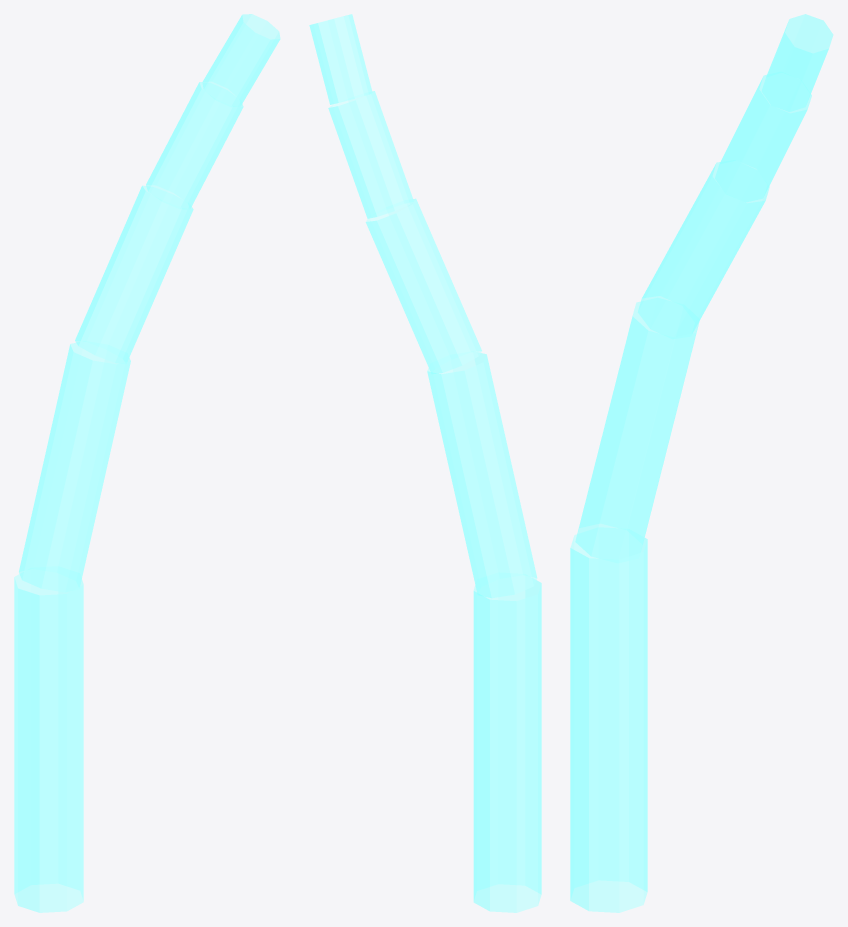
File: gen0001-biomech.glb
3 renders of one model, left to right at view 1: azimuth 30°, elevation 25°; view 2: azimuth 150°, elevation 25°; view 3: azimuth 330°, elevation 25°, orthographic. The views are drawn at different scales.
Visible parts, largest first — view 1: branch_d5, branch_d4, branch_d3, branch_d2, branch_d1; view 2: branch_d5, branch_d4, branch_d3, branch_d2, branch_d1; view 3: branch_d5, branch_d4, branch_d3, branch_d2, branch_d1.
Boxes of the visible parts, x1=… form: branch_d5: x1=14, y1=569, x2=83, y2=912; branch_d4: x1=19, y1=342, x2=130, y2=592; branch_d3: x1=75, y1=185, x2=193, y2=363; branch_d2: x1=146, y1=82, x2=243, y2=209; branch_d1: x1=202, y1=14, x2=280, y2=106; branch_d5: x1=473, y1=575, x2=541, y2=912; branch_d4: x1=427, y1=352, x2=537, y2=598; branch_d3: x1=365, y1=198, x2=481, y2=373; branch_d2: x1=328, y1=91, x2=413, y2=218; branch_d1: x1=309, y1=14, x2=372, y2=104; branch_d5: x1=570, y1=527, x2=647, y2=912; branch_d4: x1=575, y1=298, x2=699, y2=562; branch_d3: x1=638, y1=161, x2=769, y2=338; branch_d2: x1=715, y1=73, x2=811, y2=202; branch_d1: x1=761, y1=14, x2=833, y2=111.
Bounding box in the file's own units: 0.244 × 0.8037 × 0.078.
